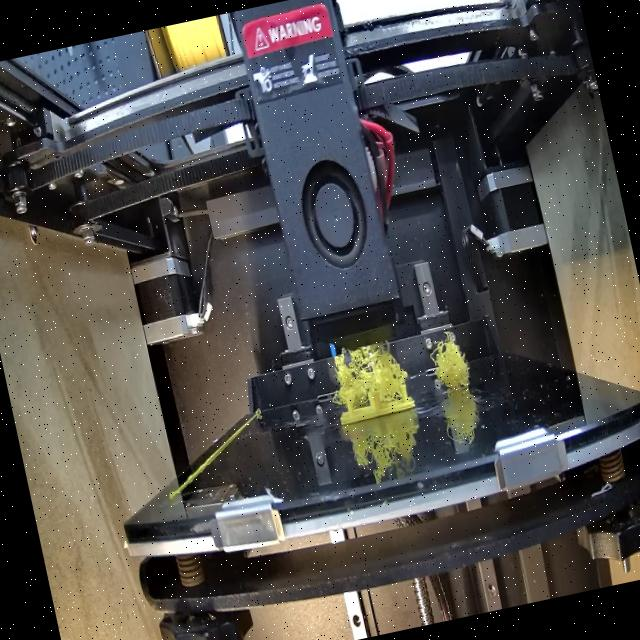spaghetti: (320, 323, 414, 416), (424, 329, 476, 396)
